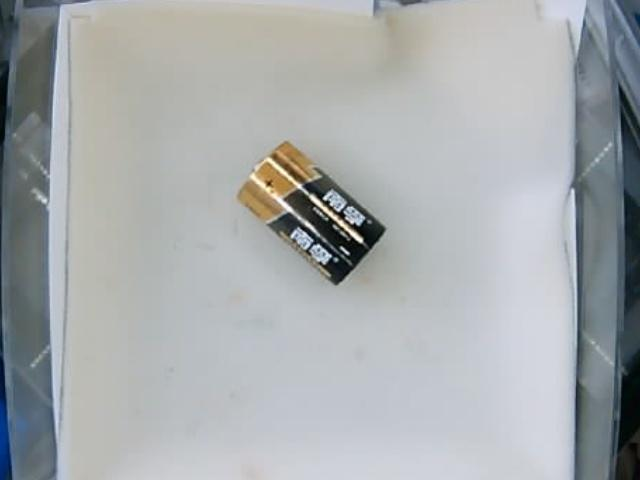Battery: (240, 141, 381, 286)
